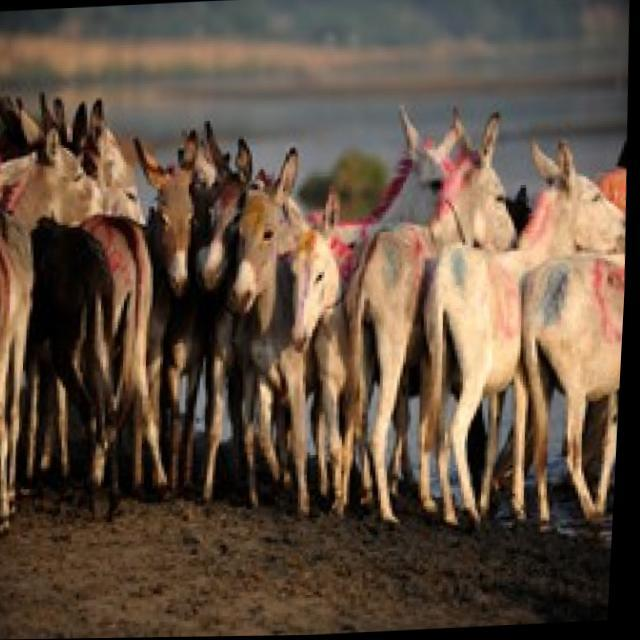Donkey: (0, 59, 637, 562), (412, 136, 634, 533), (334, 106, 537, 528), (513, 247, 630, 530)
